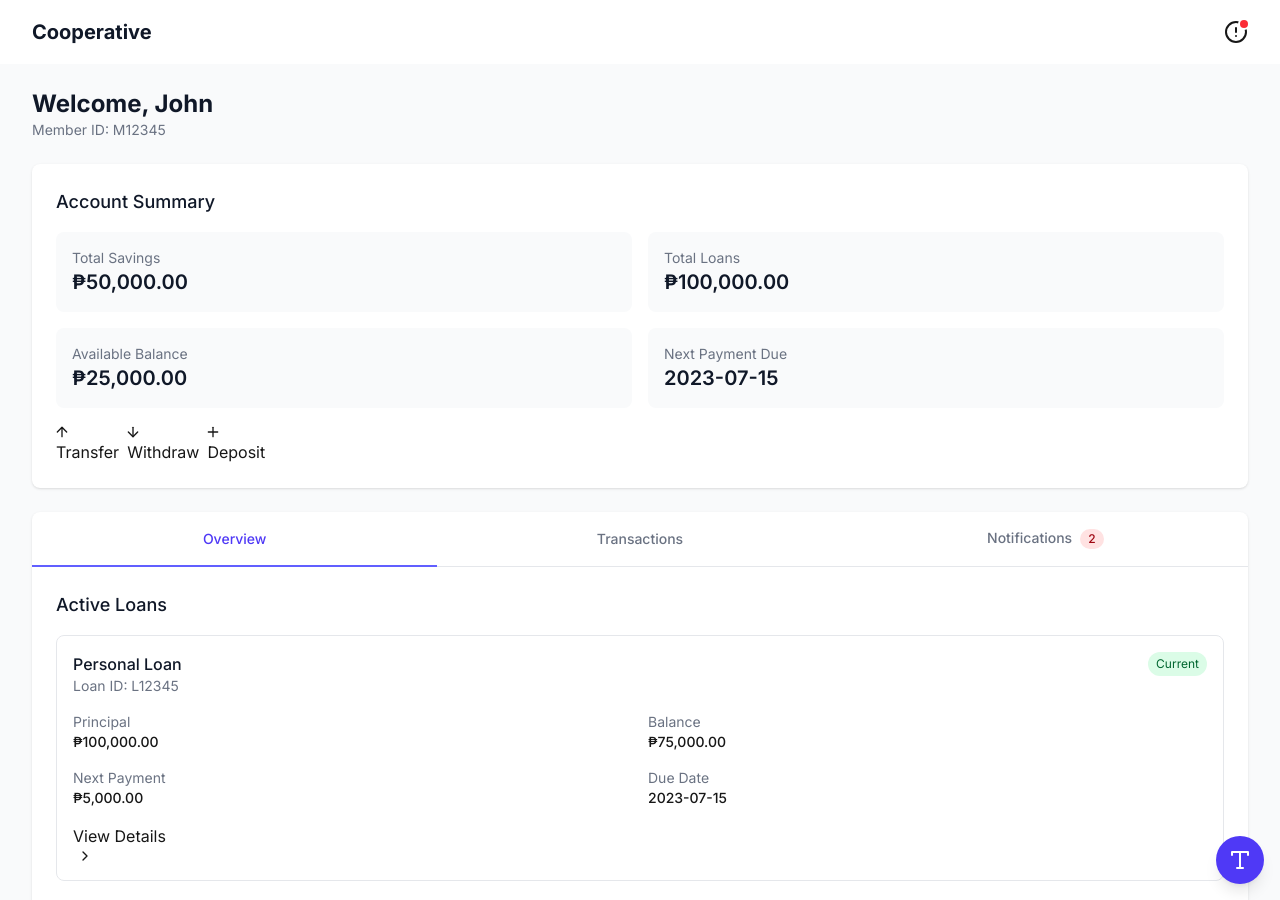
Scenario: MemberDashboard › renders empty state when no recent transactions
Note: Click the transactions tab
Click the button "Transactions". click: click(640, 540)
box: [437,512,843,567]
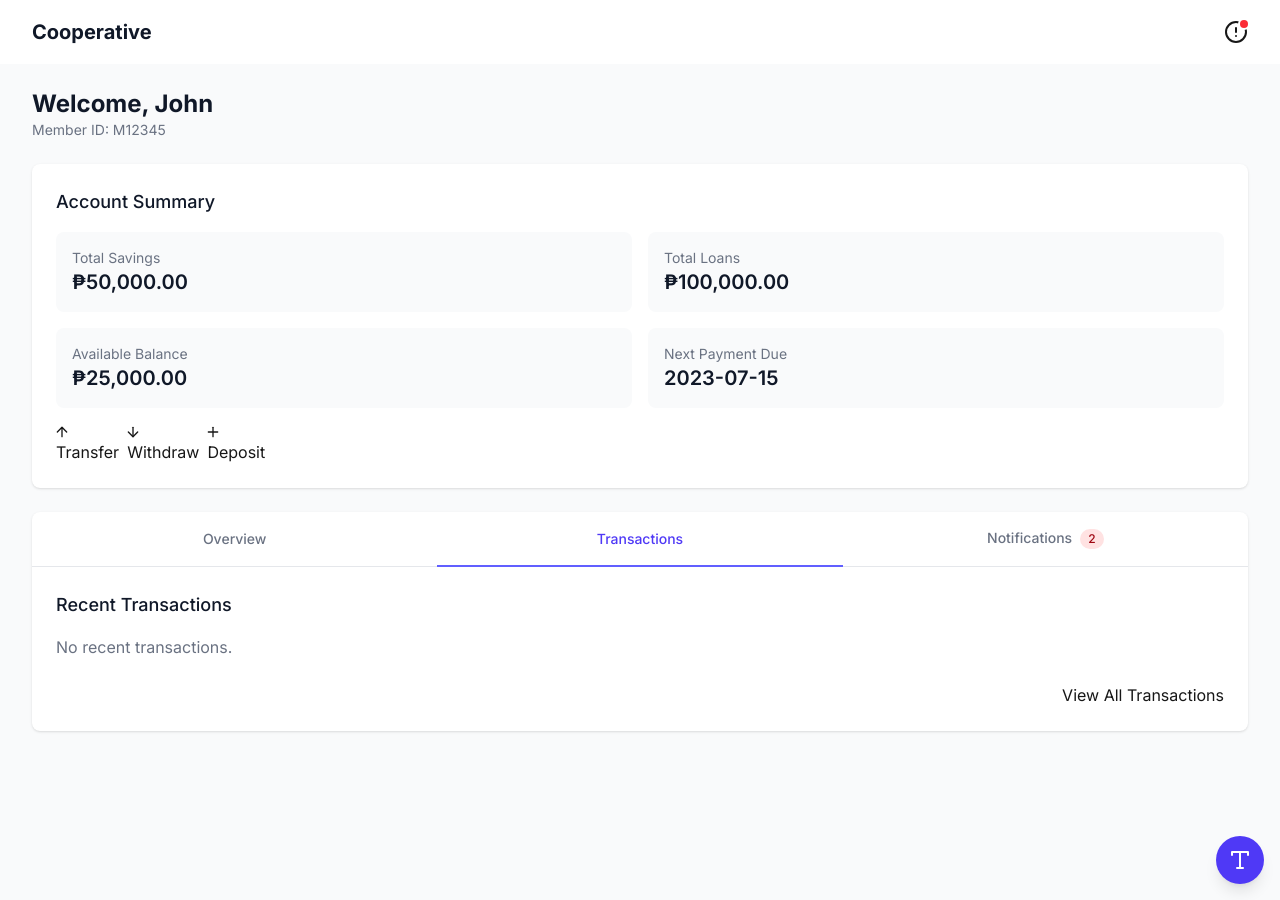
Check: the text "No recent transactions." is shown, box [56,637,232,657]
